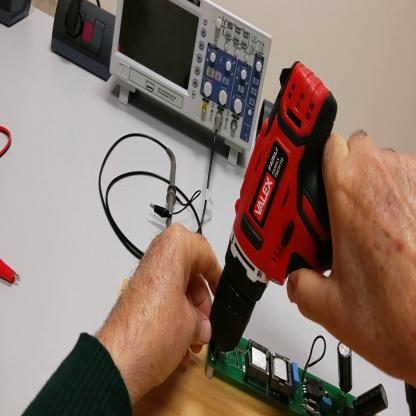electric screwdriver: (209, 60, 416, 415)
hand: (286, 128, 416, 385), (99, 222, 224, 392)
high voltage board: (206, 339, 387, 416)
oscilloscope: (114, 1, 273, 172)
oscilloscope probe tip: (167, 153, 177, 226)
socket: (54, 3, 118, 87), (2, 3, 32, 31)
working area: (119, 278, 284, 415)
